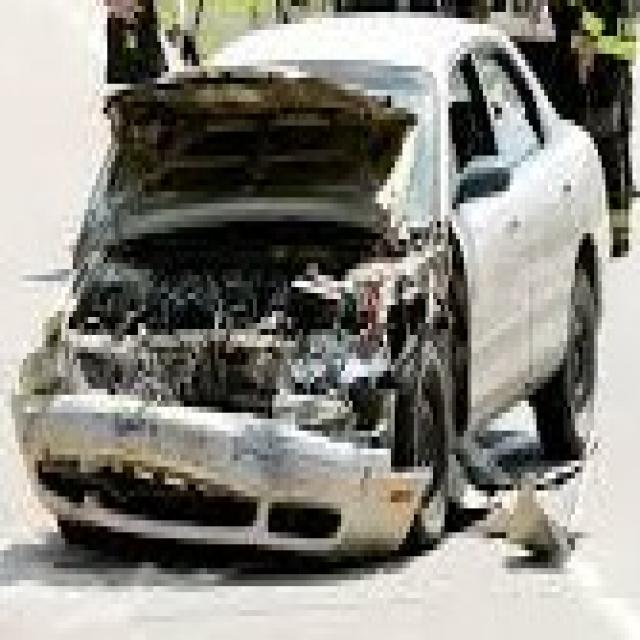moderate: (24, 21, 536, 579)
